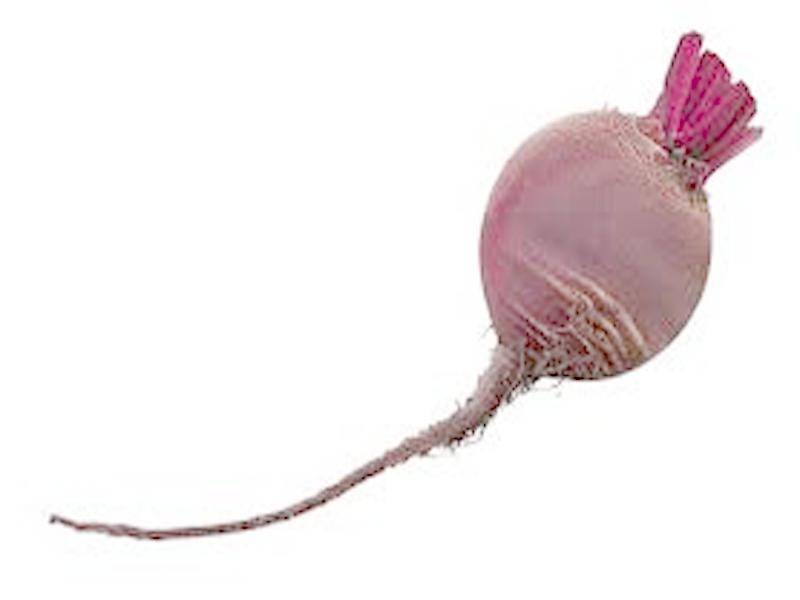Beet: (42, 30, 759, 540)
